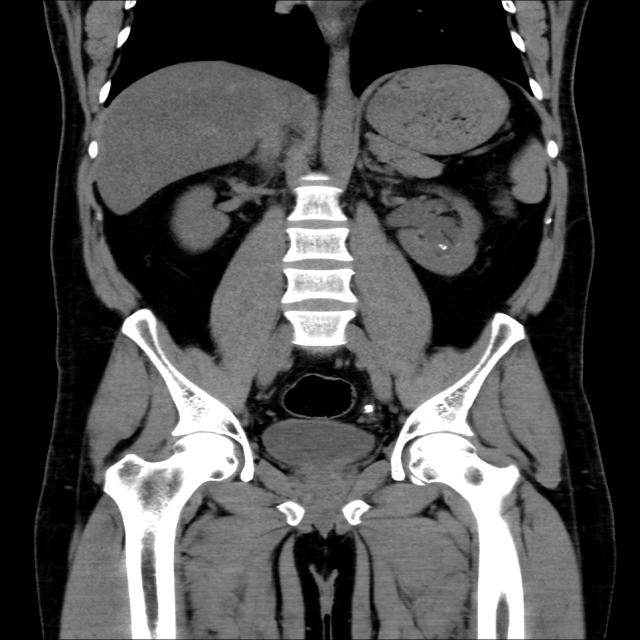kidneystone: (438, 244, 448, 250)
